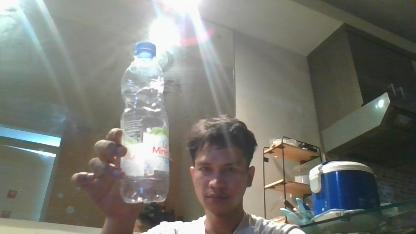Plastic Bottle: (120, 42, 170, 210)
